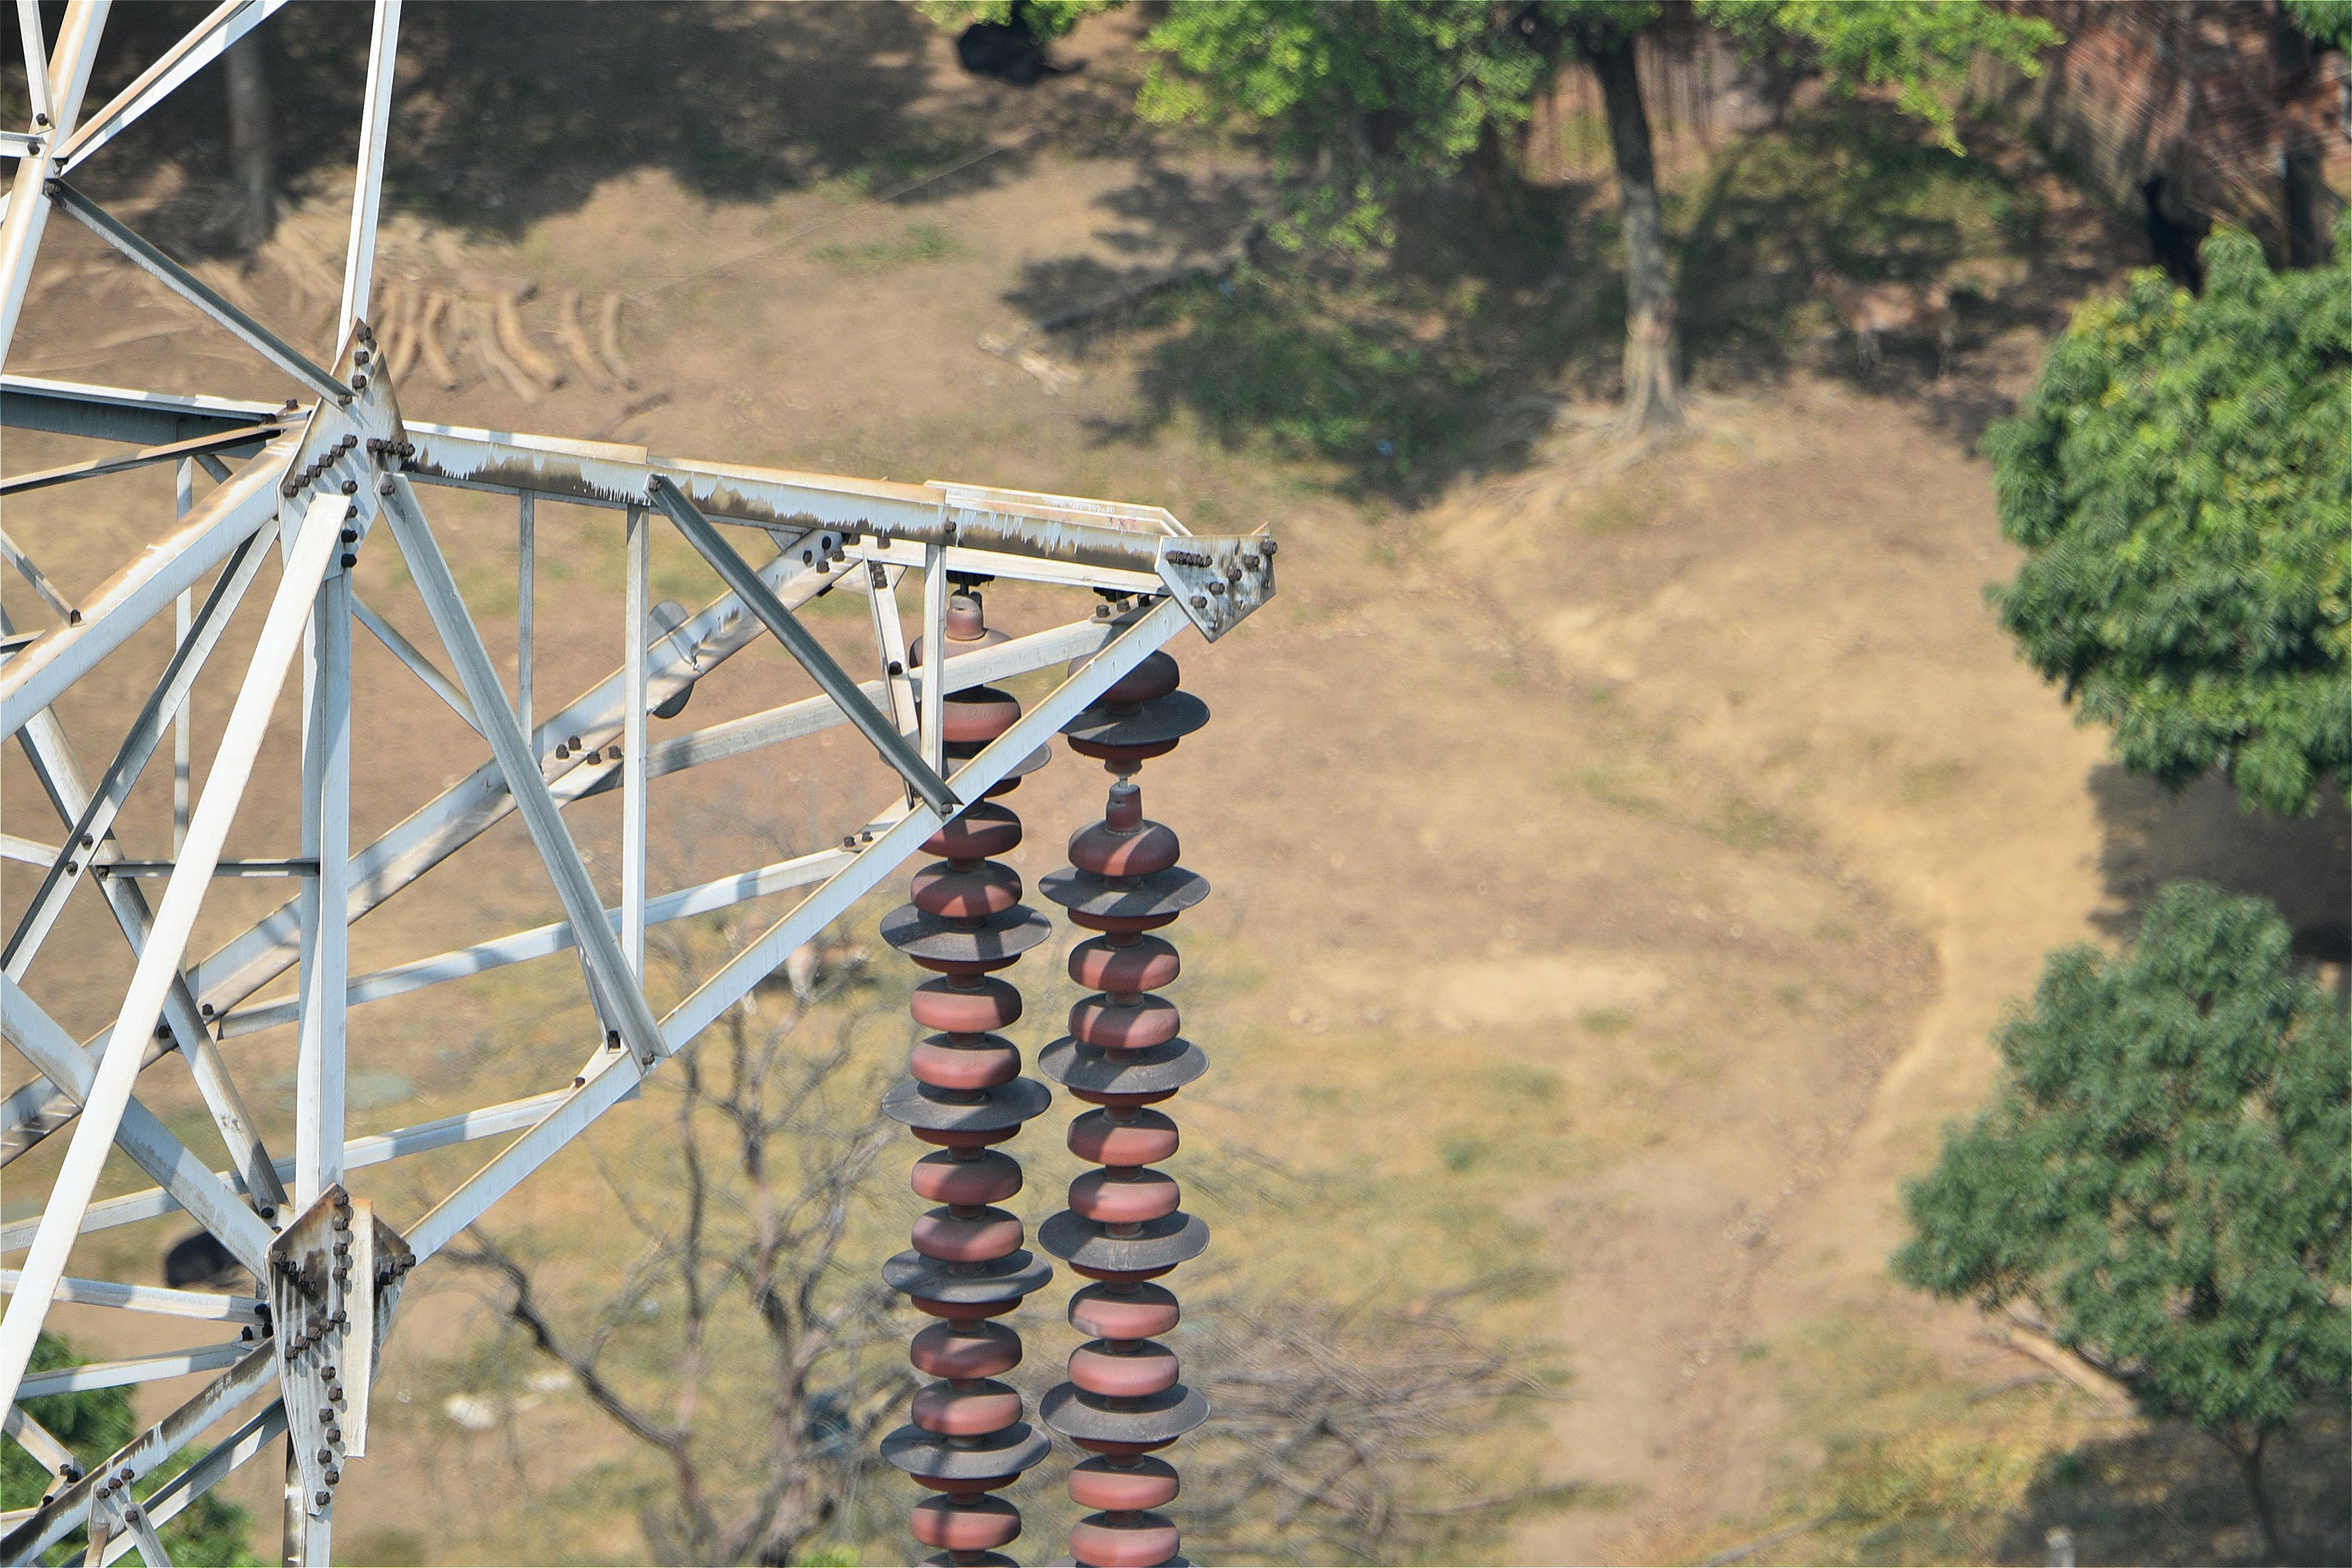insultor1: (852, 607, 1199, 1568)
